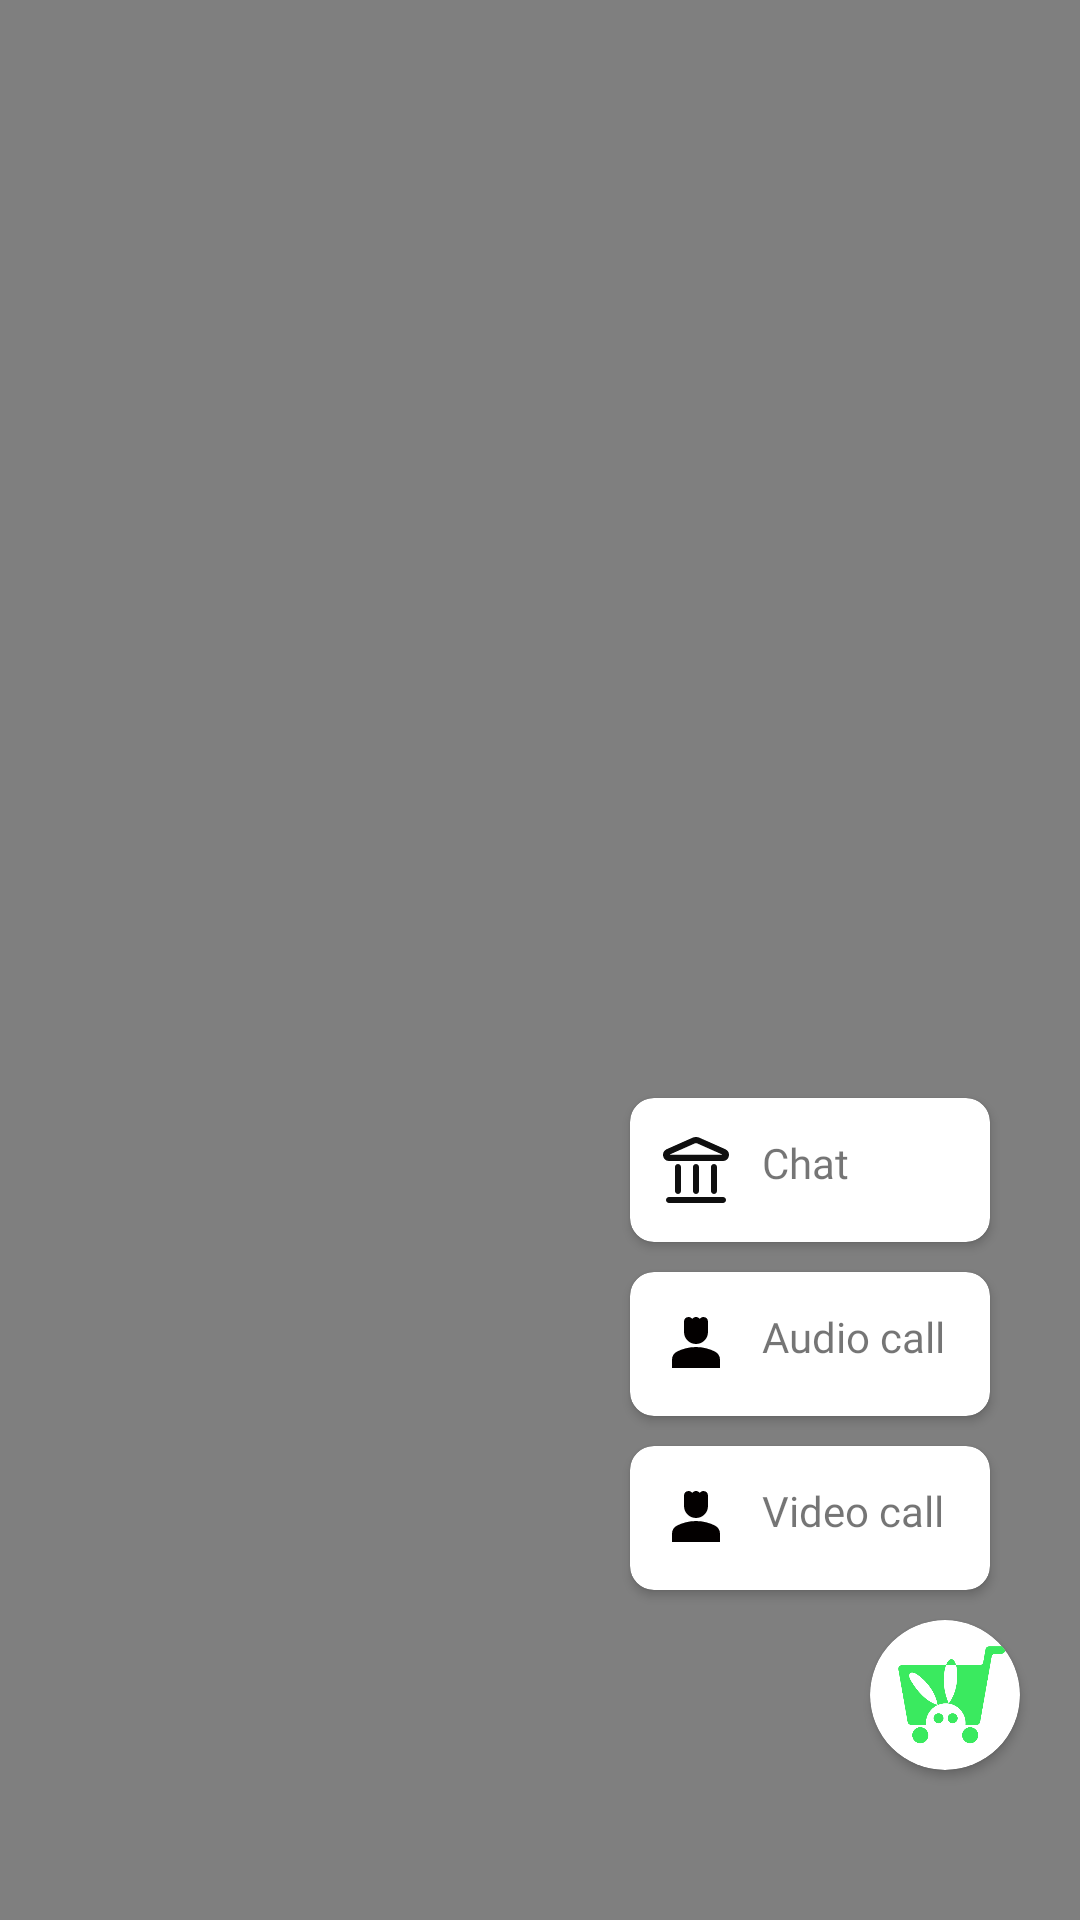

Where icons sit on this 1080w x 1920h app screen, as (x1, y1, x2, y2):
bank name: (663, 1137, 729, 1203)
person: (672, 1317, 720, 1368), (672, 1491, 720, 1542)
